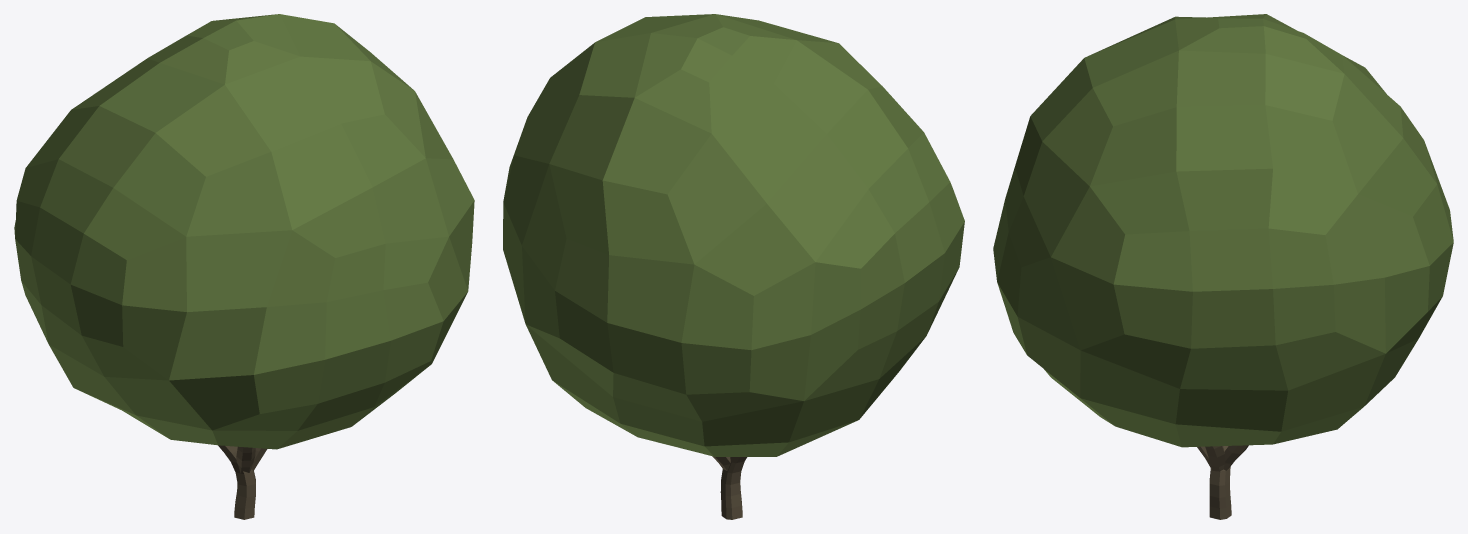
The model's file is Oak Tree.fbx.
The picture shows the model from 3 angles, left to right: view 1: azimuth 30°, elevation 25°; view 2: azimuth 150°, elevation 25°; view 3: azimuth 270°, elevation 25°; orthographic projection. The views are drawn at different scales.
Parts seen in each view (by area): view 1: Sphere, tree; view 2: Sphere, tree; view 3: Sphere, tree.
Part boxes in pixels (left/top/right/bottom): Sphere: left=14, top=14, right=474, bottom=449; tree: left=218, top=445, right=267, bottom=519; Sphere: left=503, top=14, right=964, bottom=456; tree: left=712, top=456, right=747, bottom=519; Sphere: left=993, top=14, right=1453, bottom=447; tree: left=1197, top=445, right=1248, bottom=519.
Bounding box in the file's own units: 1245 × 1467 × 1236.
